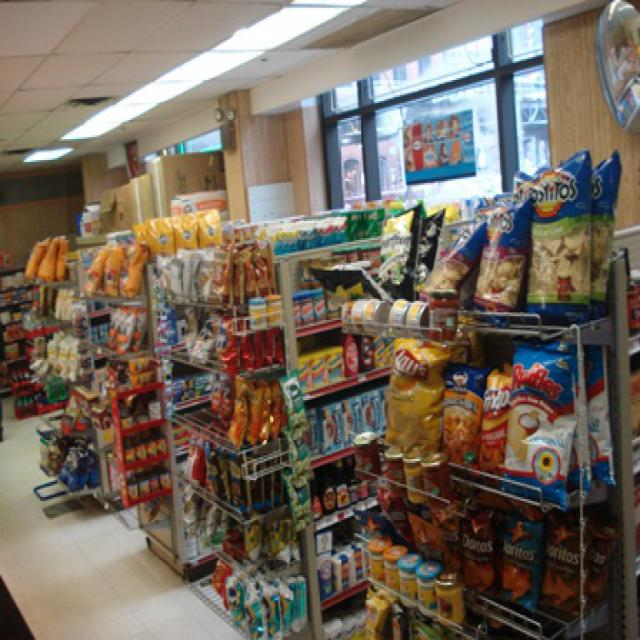2006: (319, 15, 550, 230)
bag occluded: (500, 339, 580, 507), (524, 149, 589, 324), (471, 183, 527, 322), (384, 333, 447, 450), (497, 510, 546, 610), (439, 362, 483, 463)
bag of groceries: (587, 143, 624, 316), (473, 360, 510, 476)
bags: (569, 343, 611, 493)
bags occluded: (140, 206, 223, 257), (226, 373, 283, 446), (86, 238, 149, 295), (20, 232, 67, 280)
bottle crop: (343, 326, 359, 375)
boxs: (307, 385, 383, 457), (296, 343, 343, 392)
ceiling beam: (1, 0, 460, 173)
floor -X: (0, 362, 637, 638)
jar -X: (420, 450, 453, 507), (433, 570, 466, 625), (416, 558, 440, 615), (396, 550, 420, 604), (401, 450, 423, 503), (381, 541, 404, 590), (383, 444, 403, 491)
jars: (127, 465, 169, 501), (121, 430, 166, 459)
lamp crop: (23, 147, 71, 160)
lamps: (60, 0, 361, 137)
mirror crop: (593, 0, 637, 133)
packet: (330, 547, 350, 592)
stand clothes: (343, 221, 637, 636), (109, 213, 390, 638), (6, 215, 244, 514)
wall clock: (124, 0, 637, 581), (0, 145, 139, 396)
